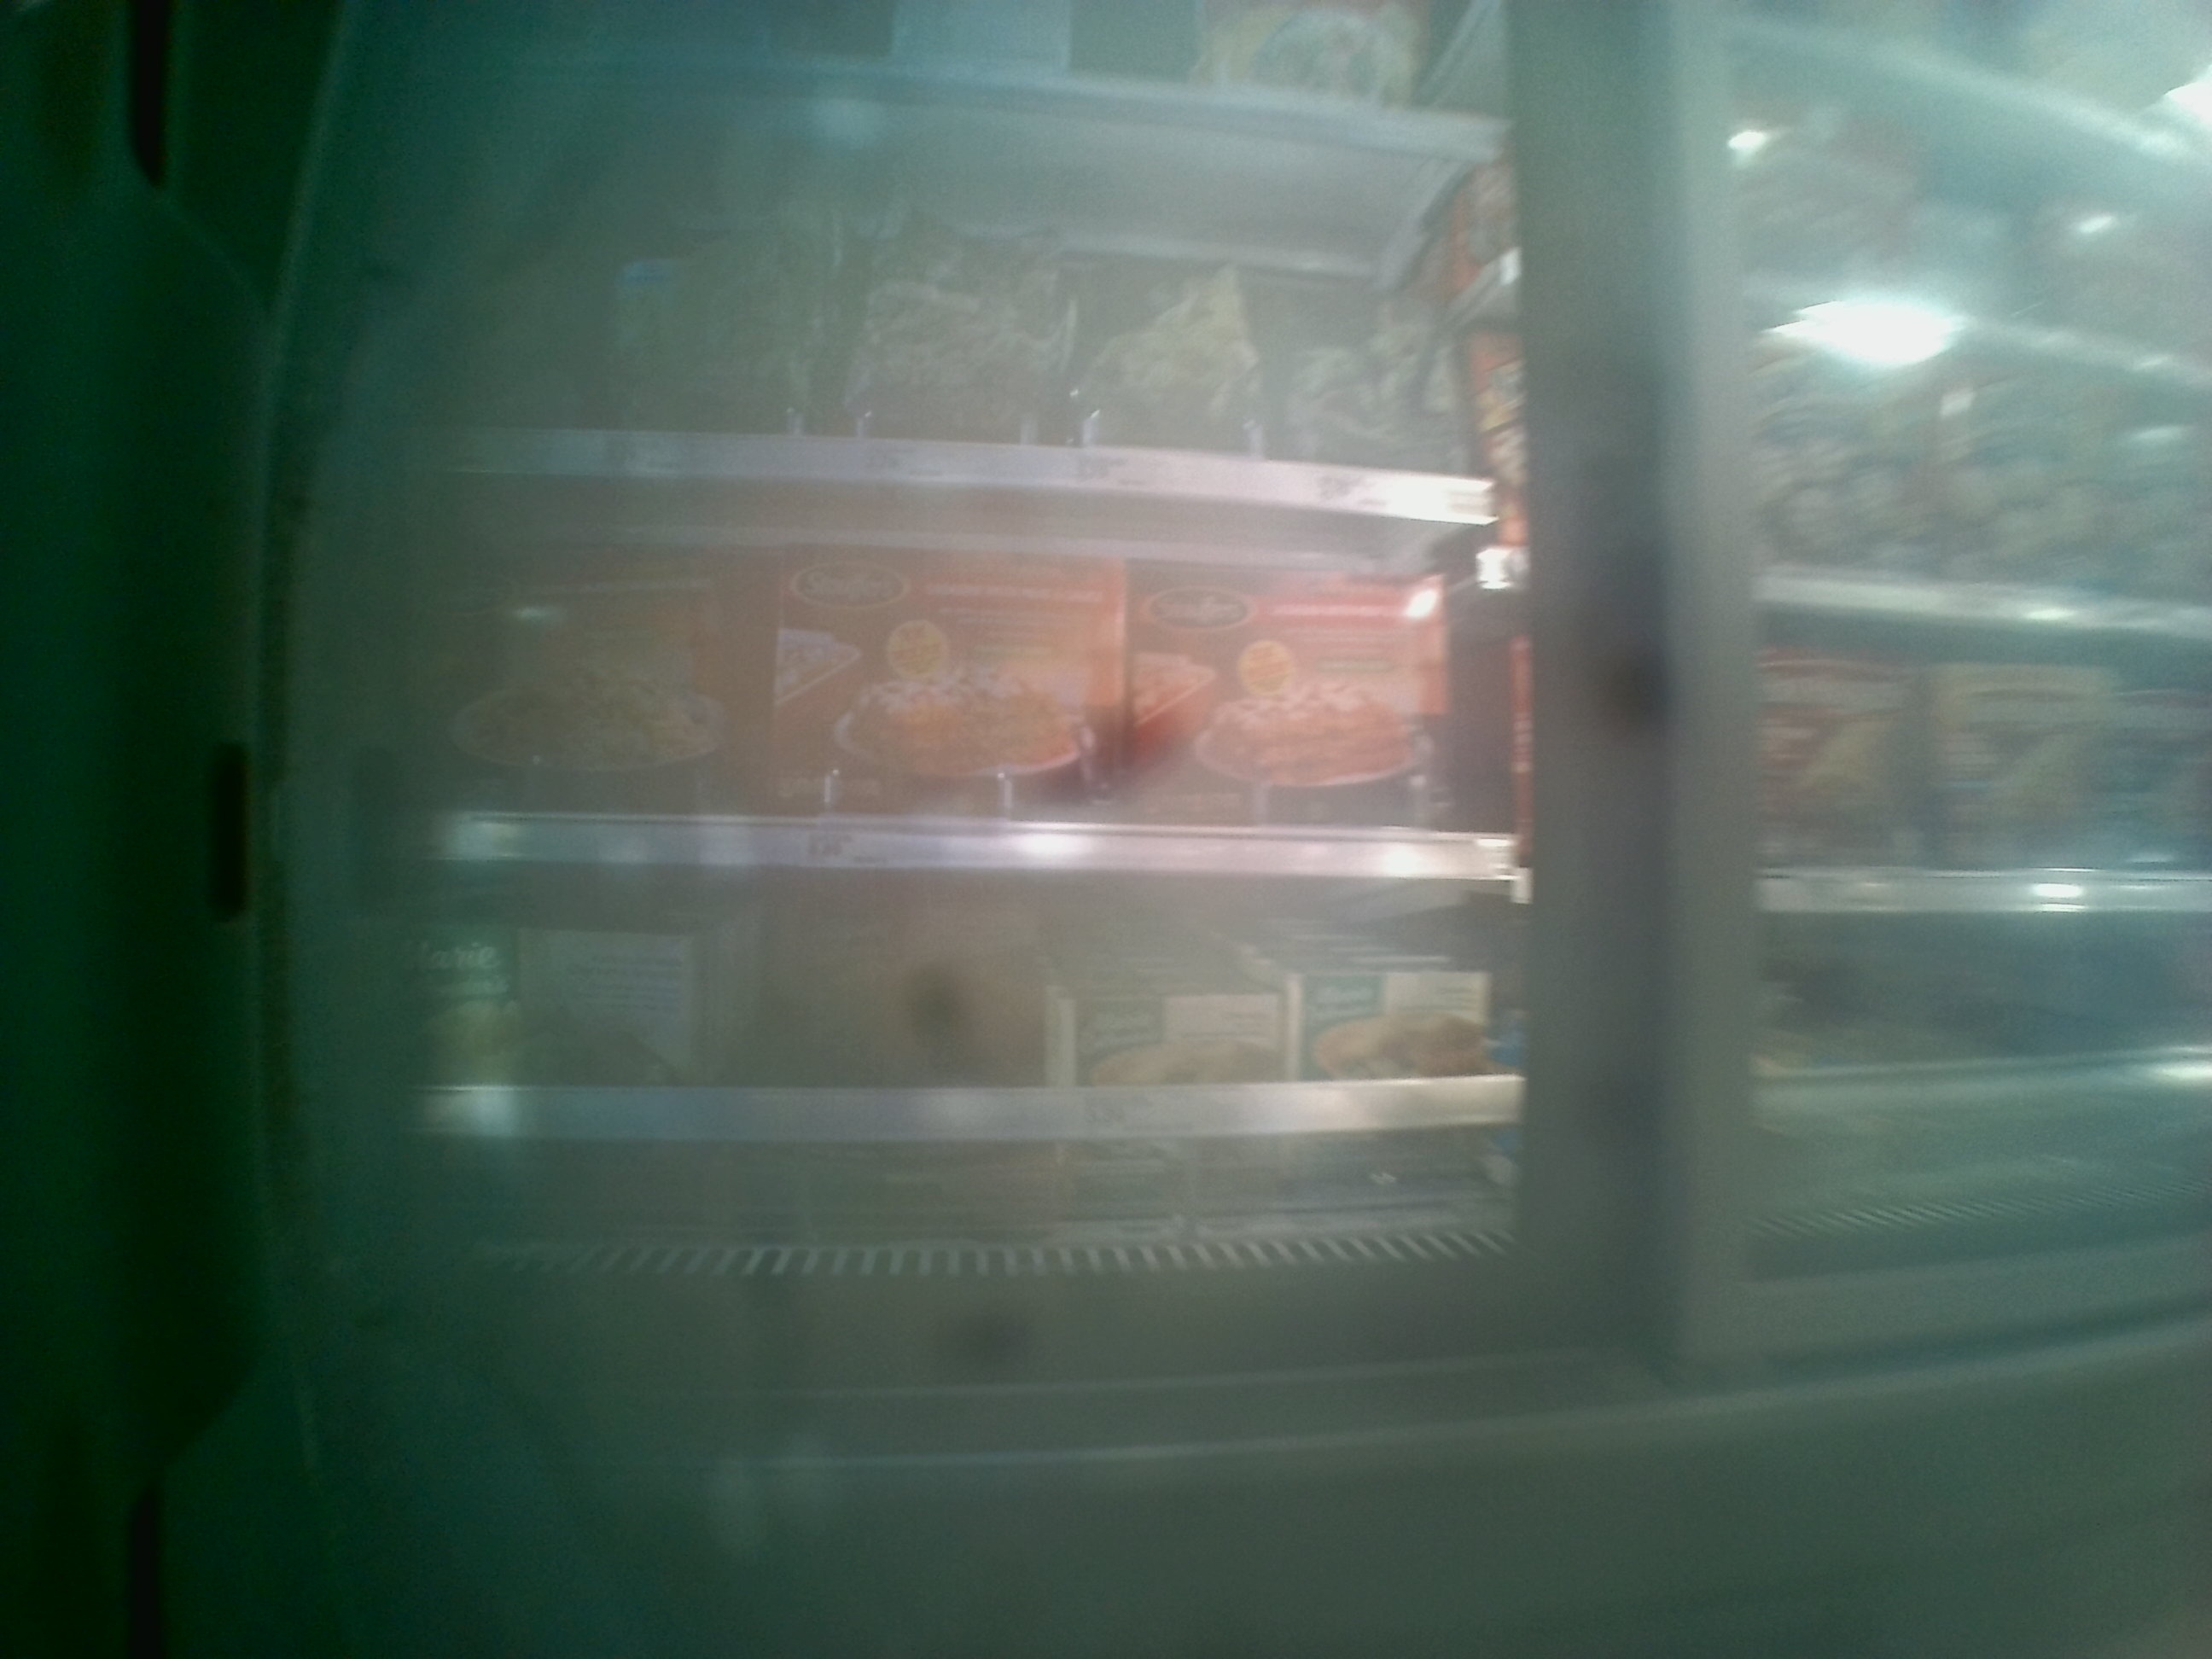shelf: (411, 477, 1524, 882)
